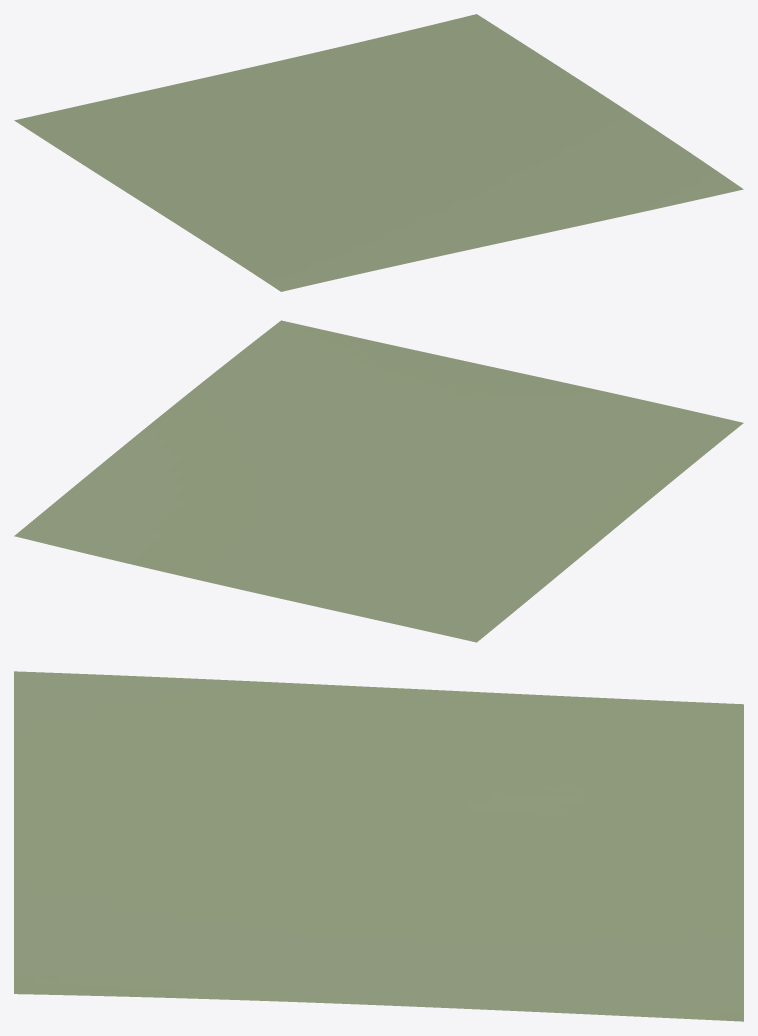
File: expanse-31-0.glb
3 renders of one model, top to bottom at view 1: azimuth 30°, elevation 25°; view 2: azimuth 150°, elevation 25°; view 3: azimuth 270°, elevation 25°, orthographic. The views are drawn at different scales.
Visible parts, largest first — view 1: expanse-31-0; view 2: expanse-31-0; view 3: expanse-31-0.
Boxes of the visible parts, <box> form: expanse-31-0: <box>14,14,743,291</box>; expanse-31-0: <box>14,320,743,642</box>; expanse-31-0: <box>14,671,743,1021</box>.
Bounding box in the file's own units: 256 × 16.17 × 256.
